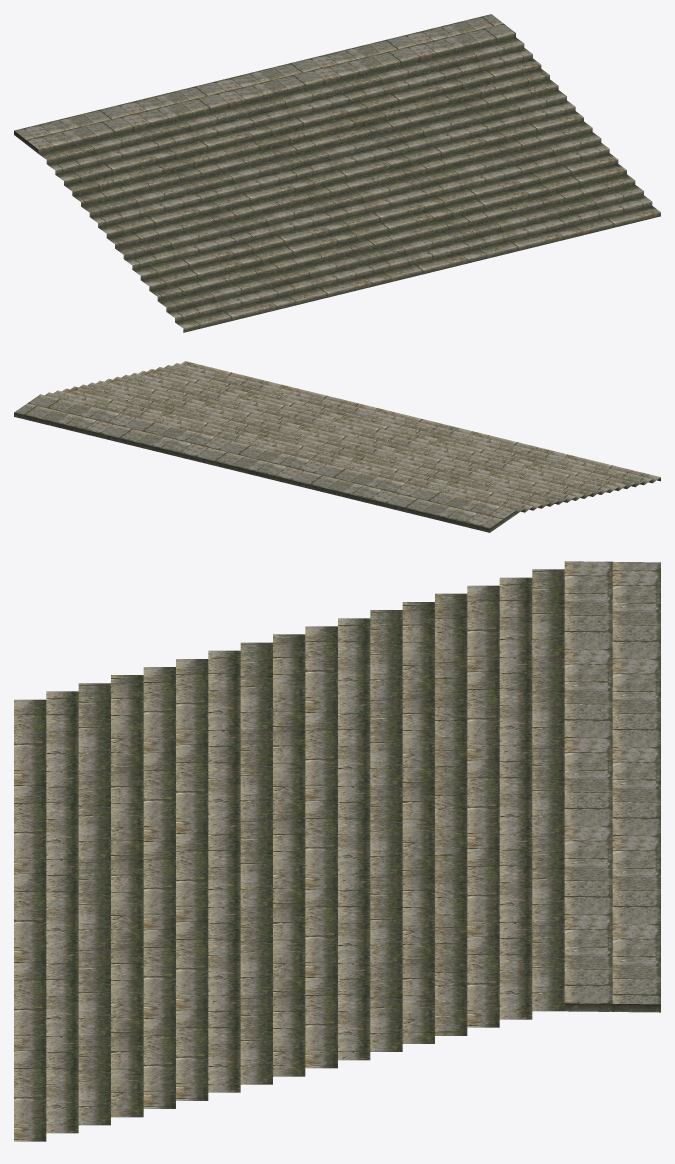
File: stone_steps00.fbx
3 renders of one model, top to bottom at view 1: azimuth 30°, elevation 25°; view 2: azimuth 150°, elevation 25°; view 3: azimuth 270°, elevation 25°, orthographic. The views are drawn at different scales.
Visible parts, largest first — view 1: stone_steps00; view 2: stone_steps00; view 3: stone_steps00.
Part boxes in pixels (left/top/right/bottom): stone_steps00: left=14, top=14, right=660, bottom=332; stone_steps00: left=14, top=361, right=660, bottom=532; stone_steps00: left=14, top=561, right=660, bottom=1141.
Bounding box in the file's own units: 37.16 × 5.72 × 22.93.
